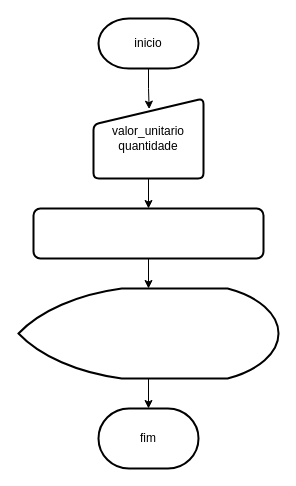
The diagram is 296 pixels wide and 486 high, and some of its shapes have lost their labels. Here are the shapes that lost their labels. From the top down, the centre of each, then its label:
(x=148, y=233): total =quantidade * valor_unitario comissao = total*0.05
(x=148, y=333): "total de vendas :", total "comissão:",comissao
